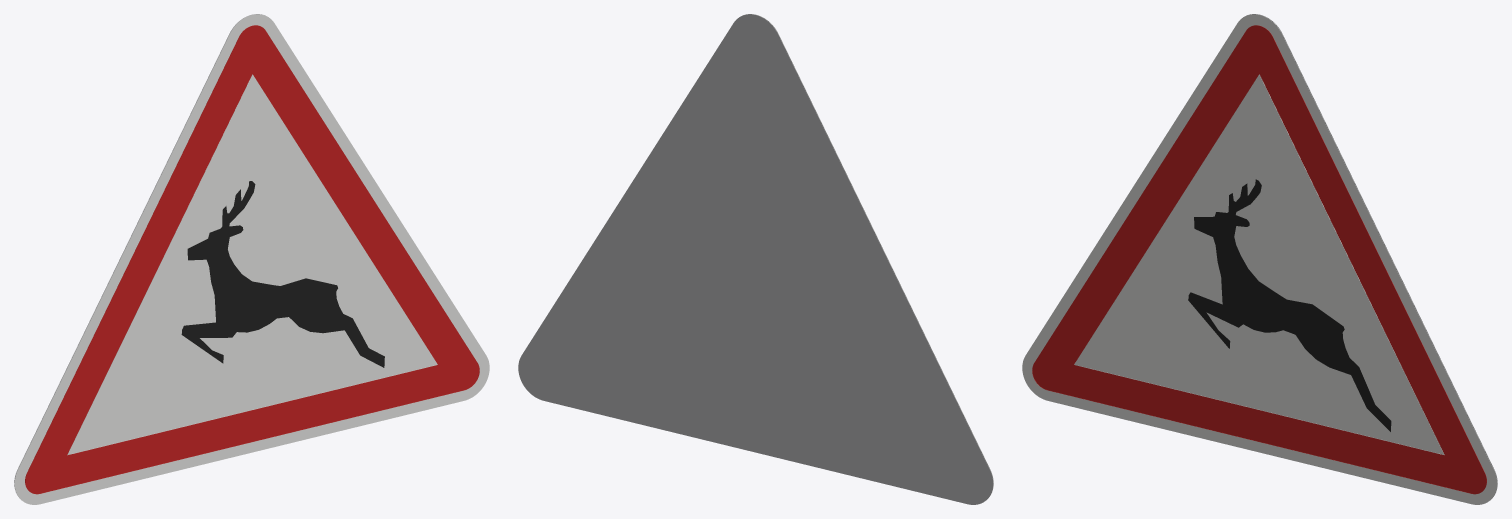
3 renders of one model, left to right at view 1: azimuth 30°, elevation 25°; view 2: azimuth 150°, elevation 25°; view 3: azimuth 330°, elevation 25°, orthographic.
Visible parts, largest first — view 1: A15b_p03, A15b_p01, A15b_p00, A15b_p05, A15b_p04, A15b_p02, A15b_dos; view 2: A15b_dos, A15b_p00; view 3: A15b_p03, A15b_p01, A15b_p00, A15b_p05, A15b_p04, A15b_p02, A15b_dos.
Boxes of the visible parts, x1,y1,x2,y2 form: A15b_p03: (68,82,437,454); A15b_p01: (25,25,479,493); A15b_p00: (14,14,489,504); A15b_p05: (181,181,384,367); A15b_p04: (67,74,437,455); A15b_p02: (25,25,479,494); A15b_dos: (14,14,265,500); A15b_dos: (518,14,993,504); A15b_p00: (742,14,993,500); A15b_p03: (1074,80,1443,454); A15b_p01: (1032,25,1486,493); A15b_p00: (1022,14,1497,504); A15b_p05: (1188,179,1391,431); A15b_p04: (1074,74,1444,455); A15b_p02: (1032,25,1486,494); A15b_dos: (1246,14,1497,500).
Bounding box in the file's own units: 1 × 0.8803 × 0.0039.
